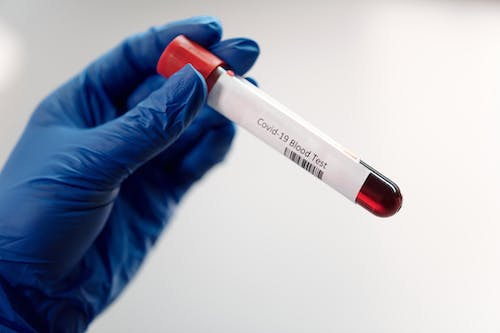blood: (200, 60, 404, 218)
